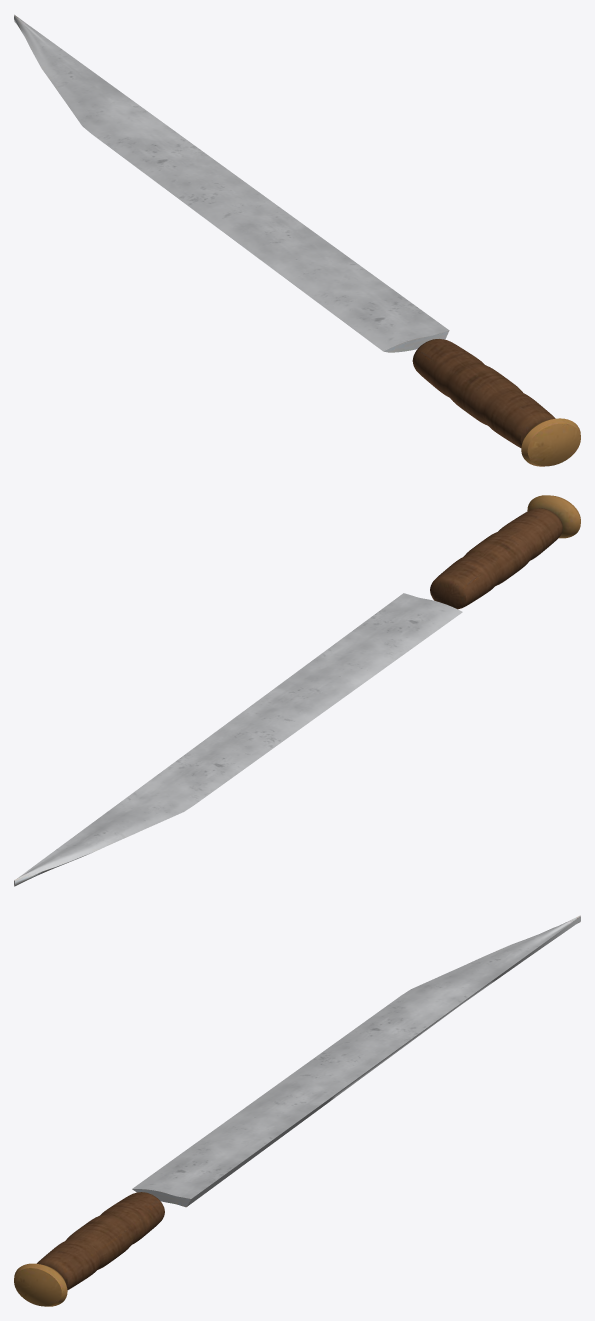
The model's file is long_seax.glb.
The picture shows the model from 3 angles, top to bottom: view 1: azimuth 30°, elevation 25°; view 2: azimuth 150°, elevation 25°; view 3: azimuth 330°, elevation 25°; orthographic projection. The views are drawn at different scales.
Parts seen in each view (by area): view 1: long_seax; view 2: long_seax; view 3: long_seax.
Boxes of the visible parts, box(x1,y1,x2,y2) form: long_seax: box(14, 14, 580, 466); long_seax: box(14, 495, 580, 886); long_seax: box(14, 915, 580, 1306).
Size of the model in its own units: 0.044 by 0.0292 by 0.6619.
1 material, 1 textured.
